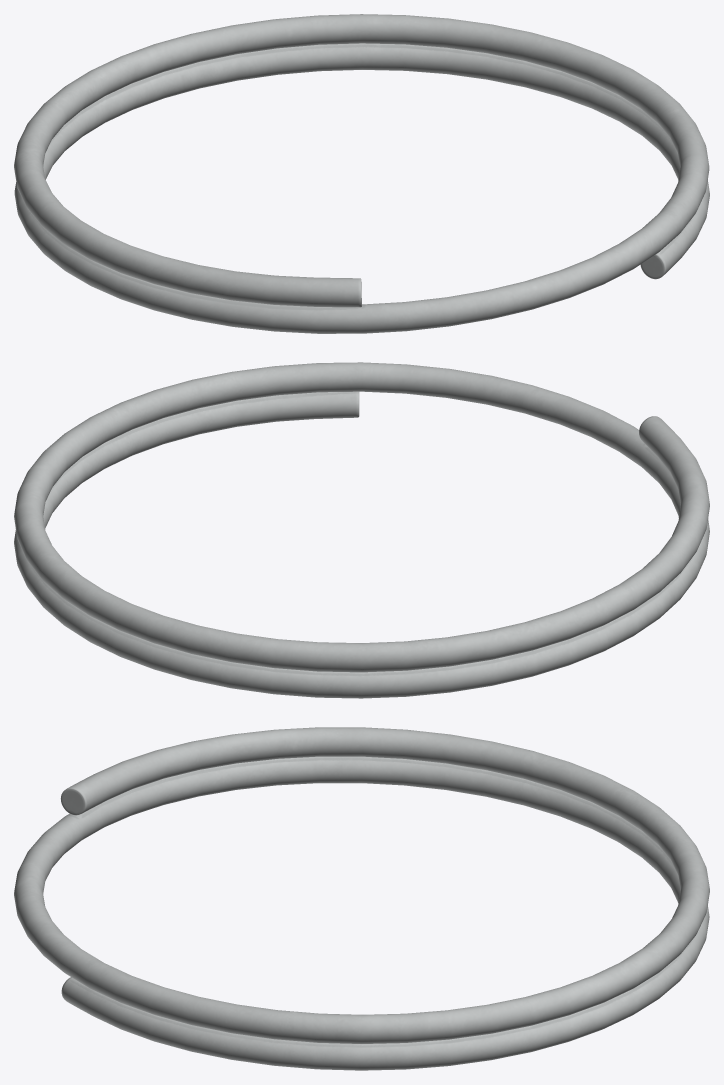
Rendered from KeyRing_sub1.fbx.
3 renders of one model, top to bottom at view 1: azimuth 30°, elevation 25°; view 2: azimuth 150°, elevation 25°; view 3: azimuth 270°, elevation 25°, orthographic.
Visible parts, largest first — view 1: KeyRing_new; view 2: KeyRing_new; view 3: KeyRing_new.
Boxes of the visible parts, bbox=[...] form: KeyRing_new: bbox=[14, 14, 709, 333]; KeyRing_new: bbox=[14, 362, 709, 698]; KeyRing_new: bbox=[14, 727, 709, 1070].
Bounding box in the file's own units: 3.13 × 0.3523 × 3.13.
